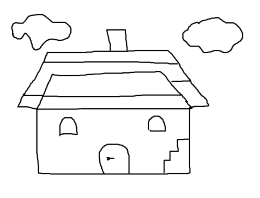clouds: (180, 12, 255, 59), (8, 12, 84, 57)
door: (90, 134, 141, 179)
open_window: (143, 113, 169, 137), (55, 114, 81, 137)
roof: (12, 47, 216, 114)
smoking_chimney: (99, 19, 142, 57)
wall: (33, 103, 193, 178)
